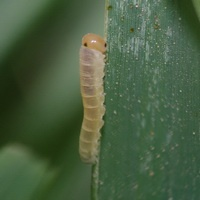insect: (79, 33, 105, 162)
